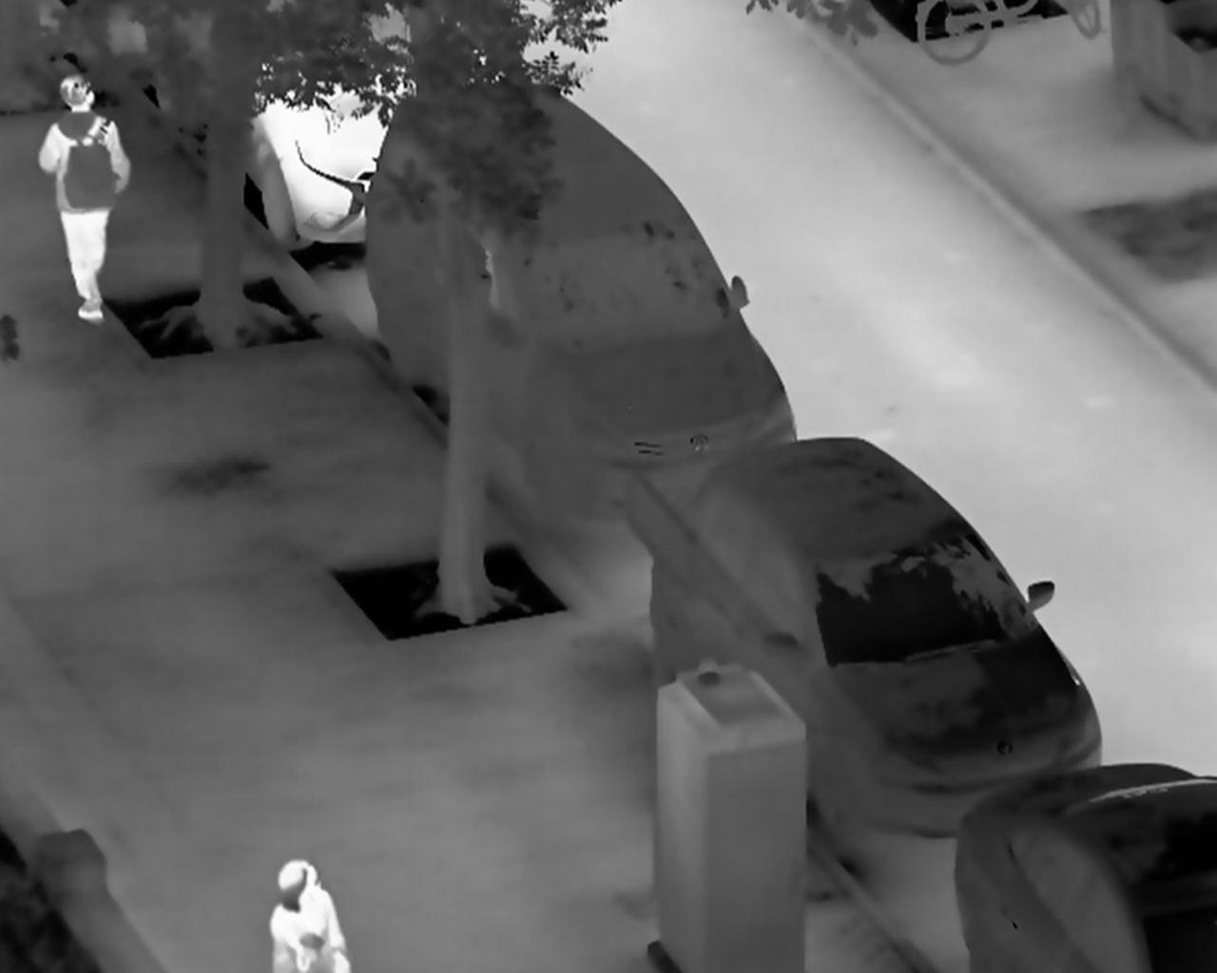person: (36, 73, 133, 327), (263, 858, 358, 973)
